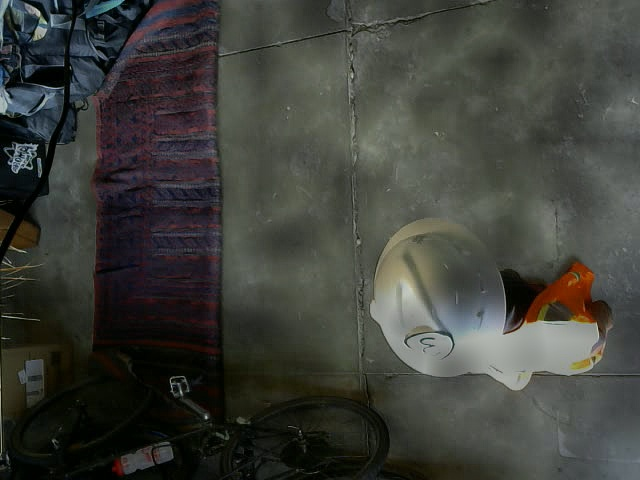three: (405, 331, 453, 362)
